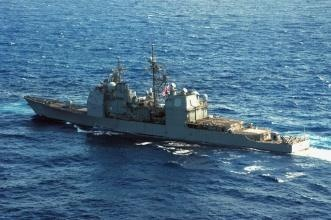warship: (15, 49, 318, 154)
